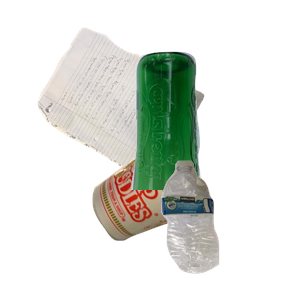glass: (129, 49, 300, 229)
paper: (35, 25, 232, 204)
plastic: (159, 158, 300, 300)
trash: (90, 129, 295, 300)
